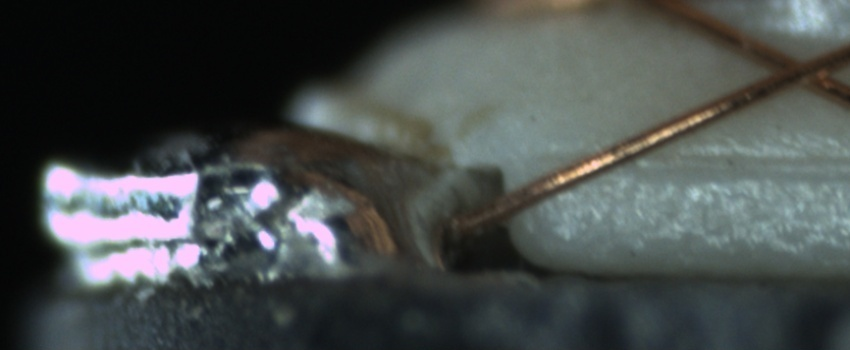CL: (751, 40, 844, 98)
DL: (556, 125, 846, 192)
